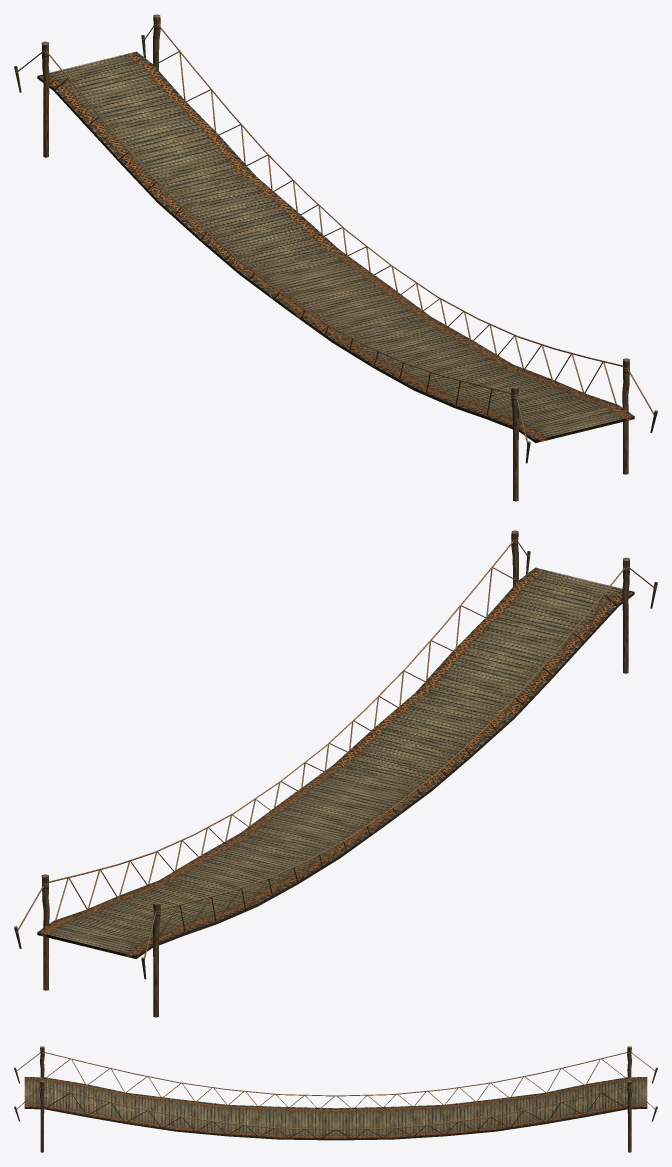
The model's file is general_obj_suspension bridge01.fbx.
3 renders of one model, top to bottom at view 1: azimuth 30°, elevation 25°; view 2: azimuth 150°, elevation 25°; view 3: azimuth 270°, elevation 25°, orthographic. The views are drawn at different scales.
Parts seen in each view (by area): view 1: Sphere01; view 2: Sphere01; view 3: Sphere01.
Boxes of the visible parts, x1,y1,x2,y2 form: Sphere01: (14,14,657,501); Sphere01: (14,530,657,1017); Sphere01: (14,1046,657,1152).
Size of the model in its own units: 10.46 by 8.8 by 71.77.
